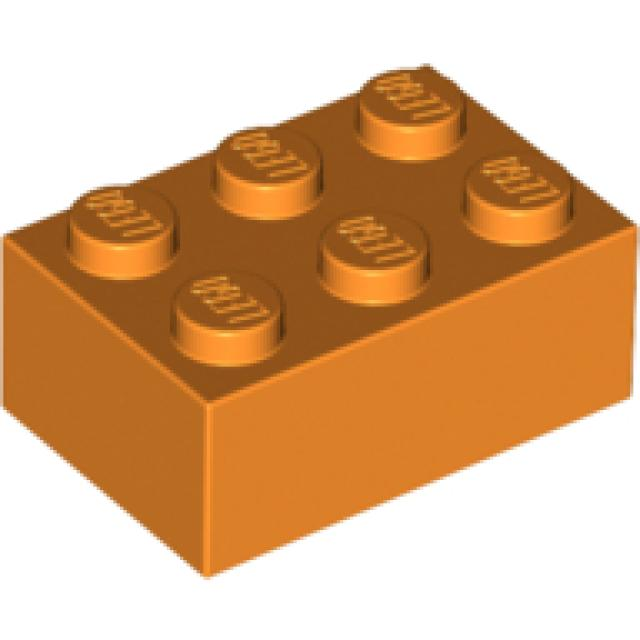Orange_Medium: (3, 67, 637, 580)
